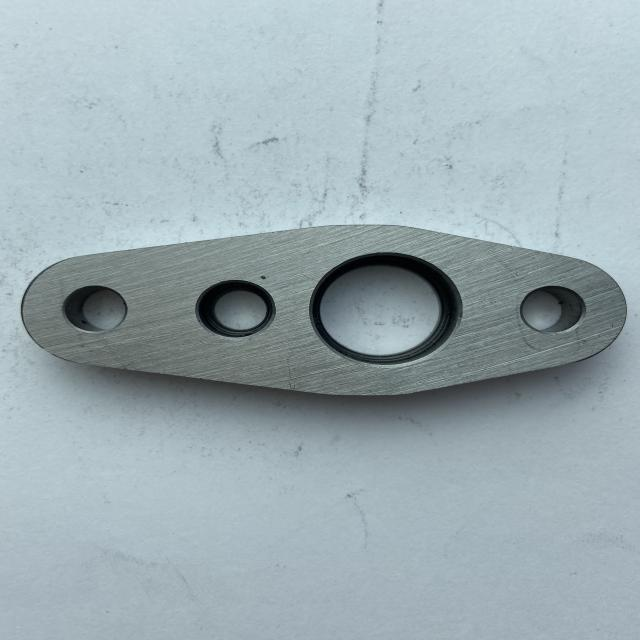chap: (208, 343, 214, 349)
lines: (518, 333, 546, 356), (281, 354, 299, 388), (566, 333, 592, 350), (258, 274, 268, 283)
